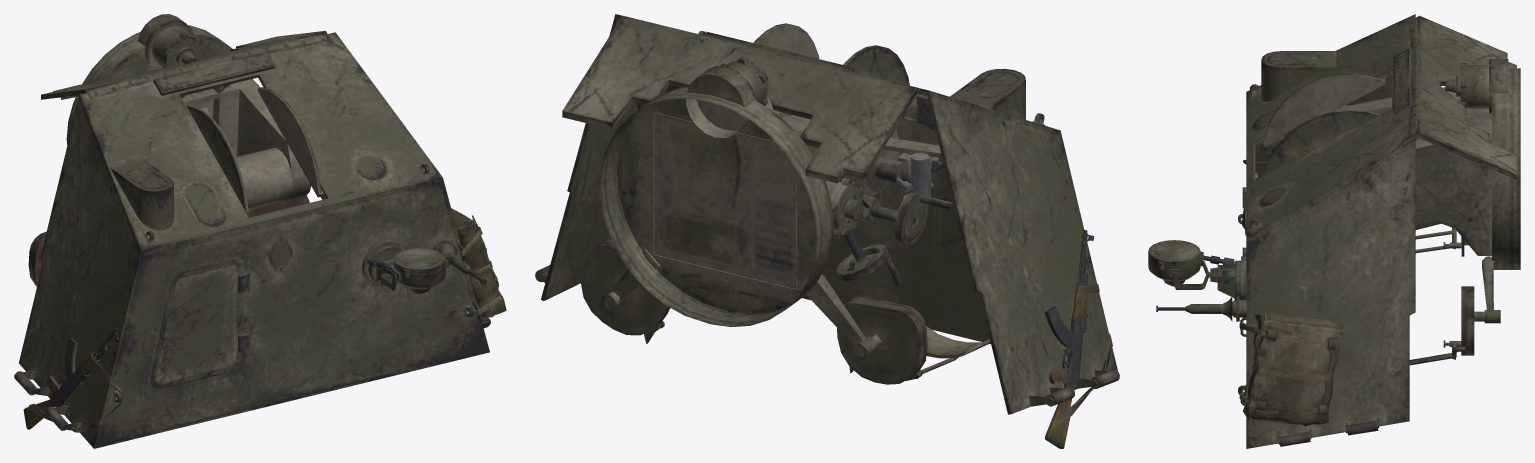
Rendered from Turret_01.glb.
3 renders of one model, left to right at view 1: azimuth 30°, elevation 25°; view 2: azimuth 150°, elevation 25°; view 3: azimuth 270°, elevation 25°, orthographic. The views are drawn at different scales.
Parts seen in each view (by area): view 1: set_0_group_0; view 2: set_0_group_0; view 3: set_0_group_0.
Boxes of the visible parts, x1,y1,x2,y2 form: set_0_group_0: (14,14,506,448); set_0_group_0: (535,14,1119,448); set_0_group_0: (1148,14,1520,448).
Bounding box in the file's own units: 2.36 × 1.62 × 1.76.
Materials: 1 (1 with a texture image).
